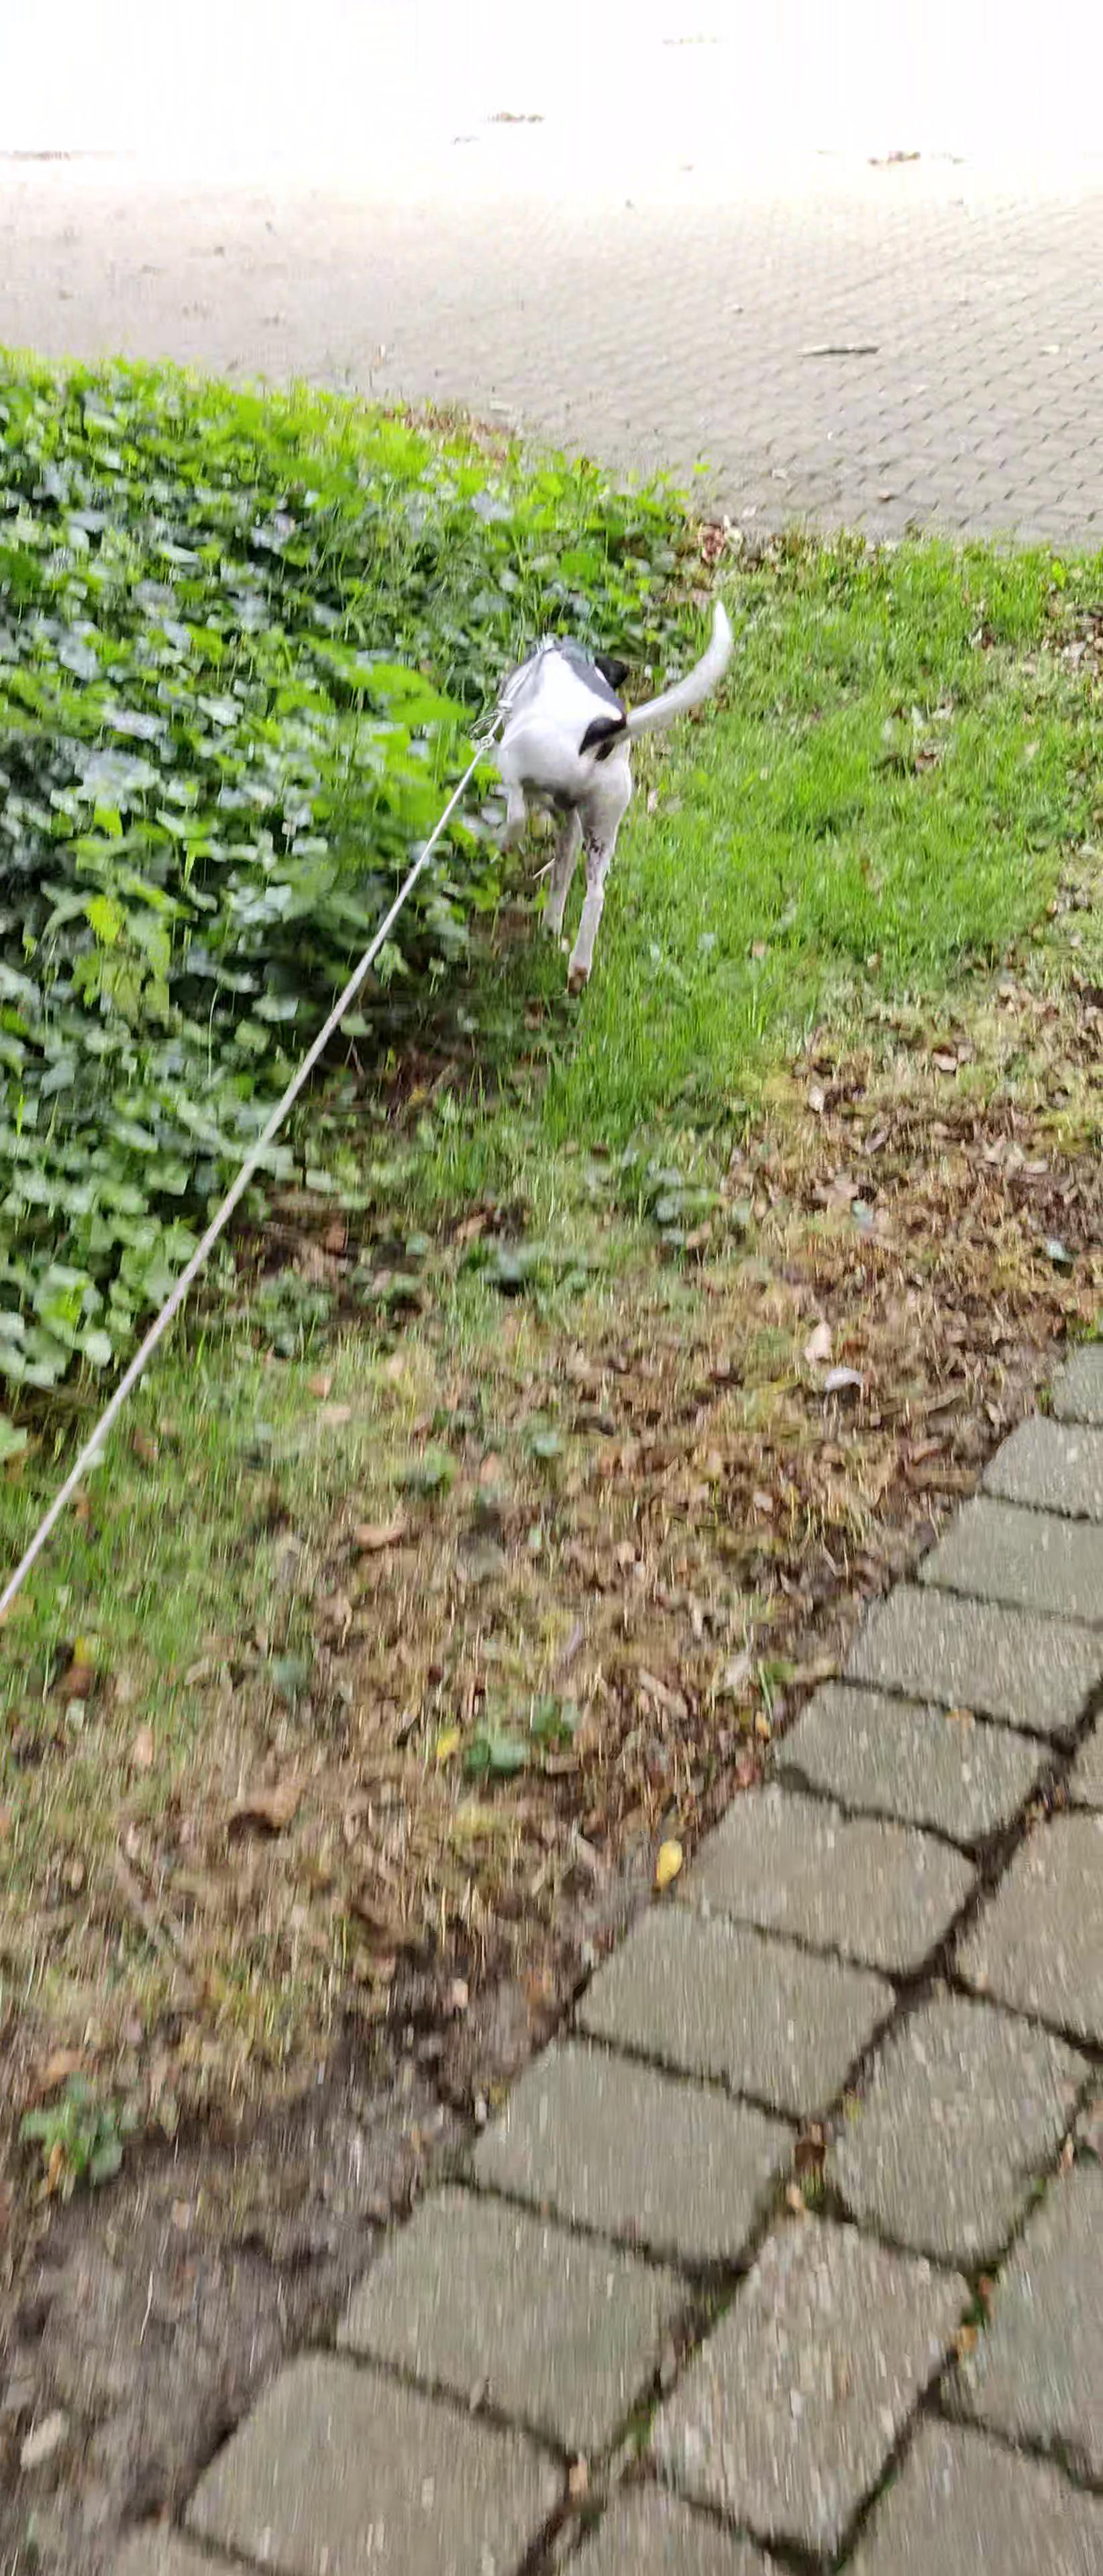Dog: (459, 586, 740, 999)
